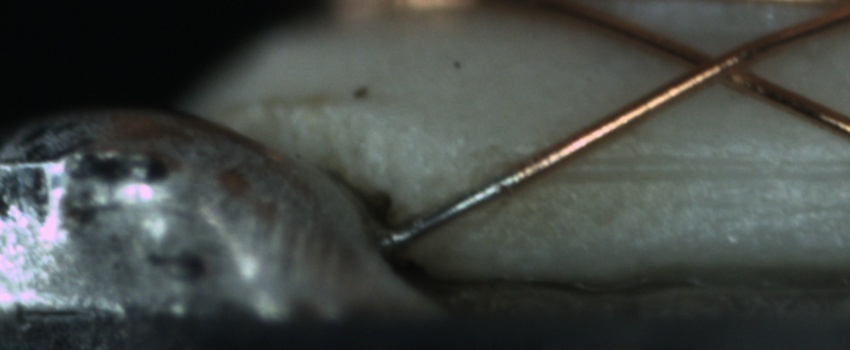CL: (665, 36, 767, 94)
DL: (519, 136, 849, 200)
TS: (388, 170, 524, 249)
